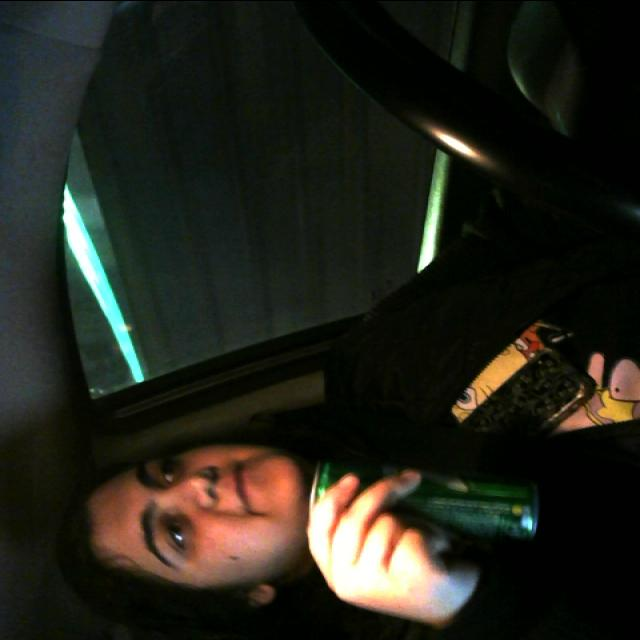drinking: (301, 458, 555, 550)
